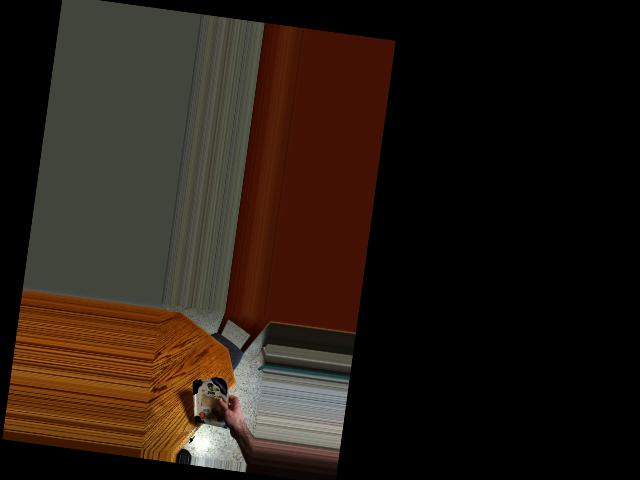cheese: (187, 372, 232, 438)
